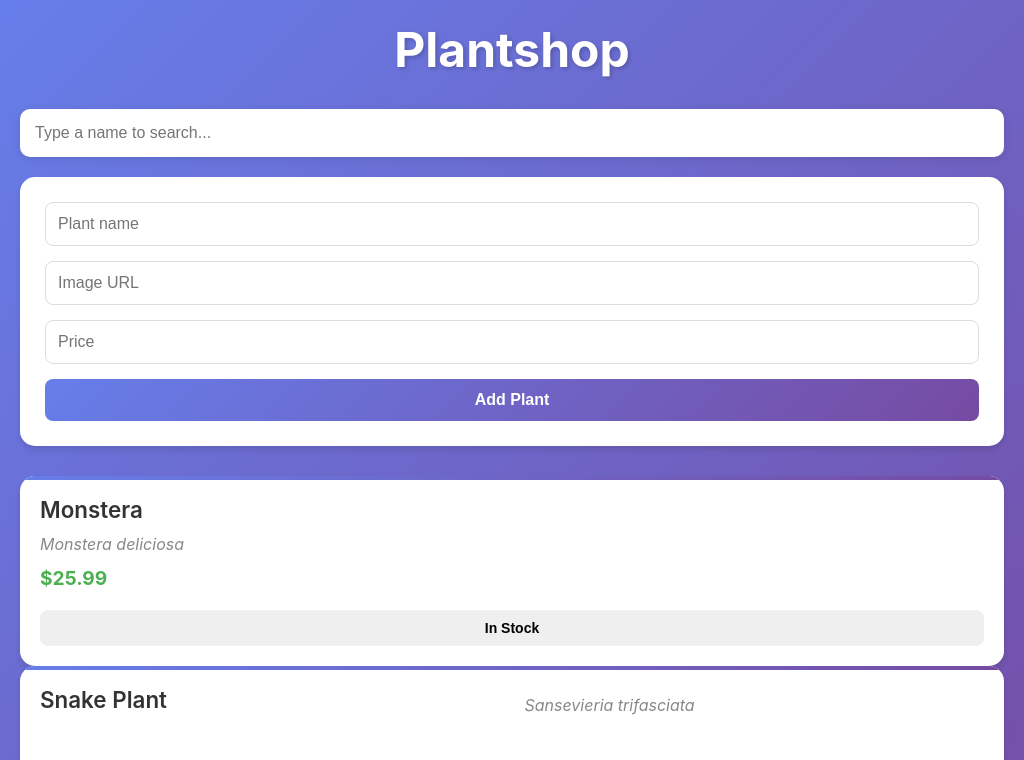
3rd Deliverable › marks a plant as sold out
Click to toggle
What coordinates should you click on to do the following:
click the button with test id "stock-button-1"
I would click on:
 (512, 628)
Its box is [40,610,984,646].
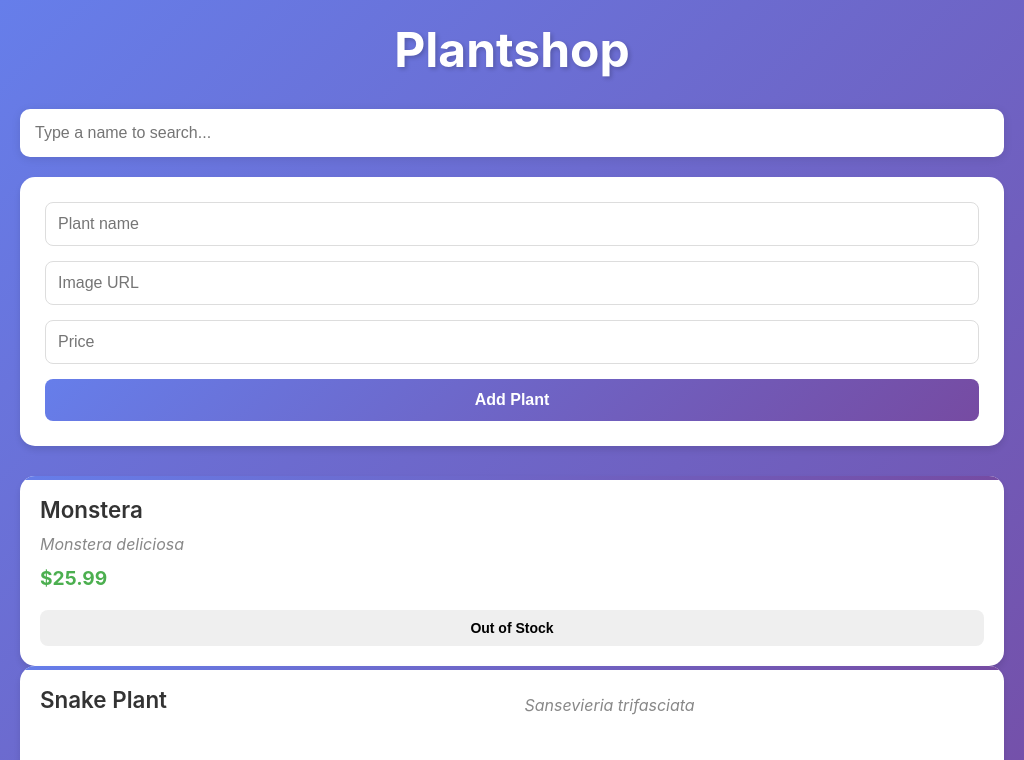
Expected: the button with test id "stock-button-1" reads "Out of Stock", [40,610,984,646]
